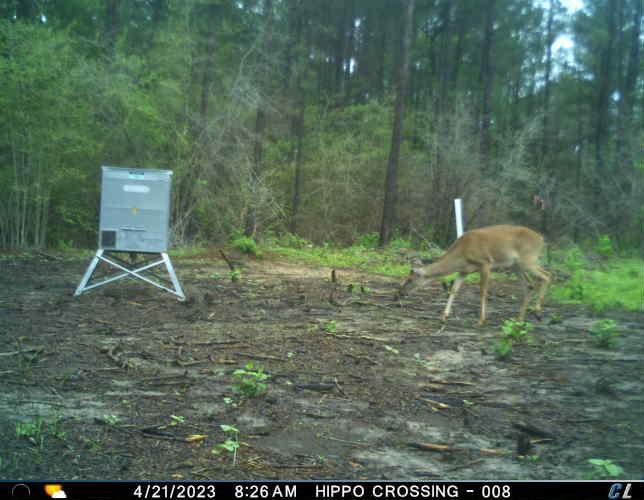Deer: (396, 222, 555, 330)
